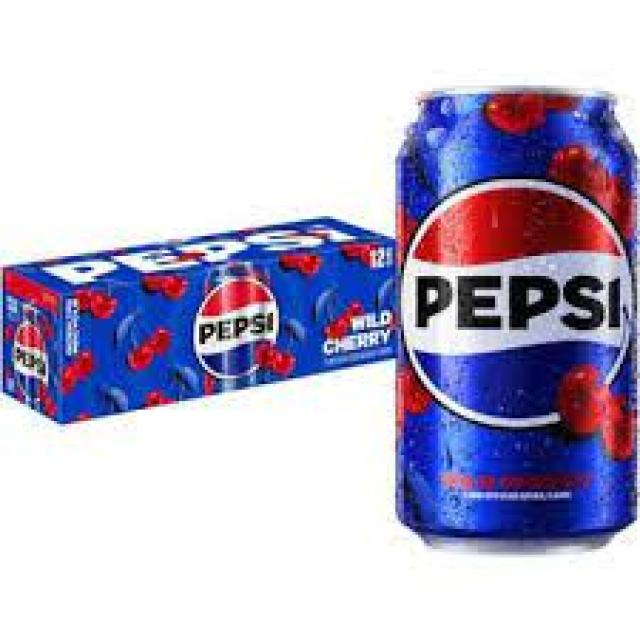Cans: (392, 76, 640, 560)
